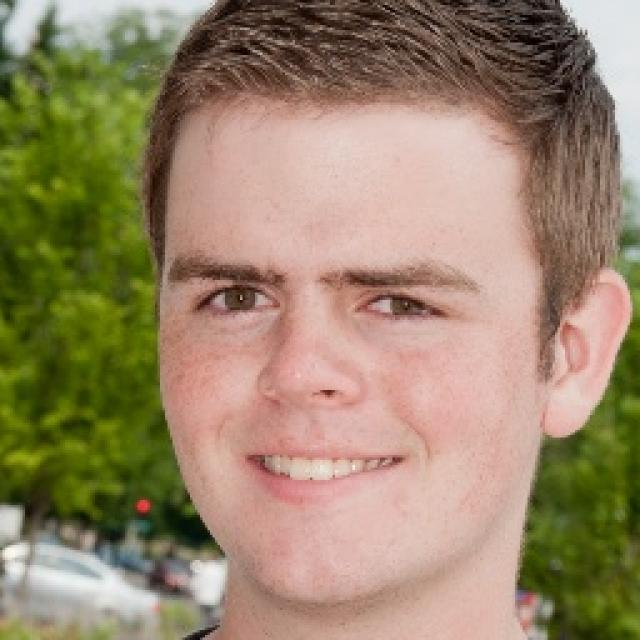earlobe: (542, 266, 632, 438)
